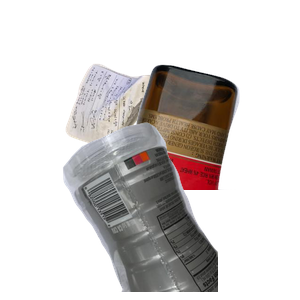glass: (113, 62, 300, 242)
paper: (63, 61, 242, 206)
plastic: (60, 120, 300, 300)
trash: (103, 147, 300, 300)
